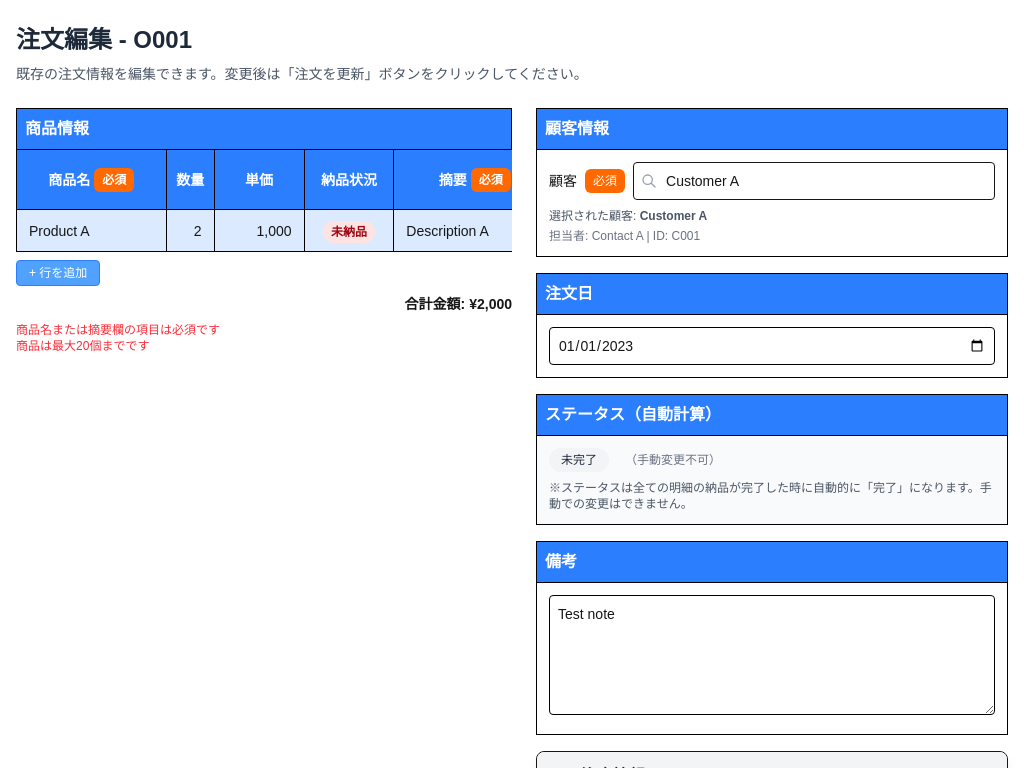
Test: OrderEditPage › 空の商品名と摘要のバリデーションを処理する
The image size is (1024, 768).
Add empty product
Click the button "+ 行を追加".
click(58, 273)  # box [16, 260, 100, 286]
(page scrolled)
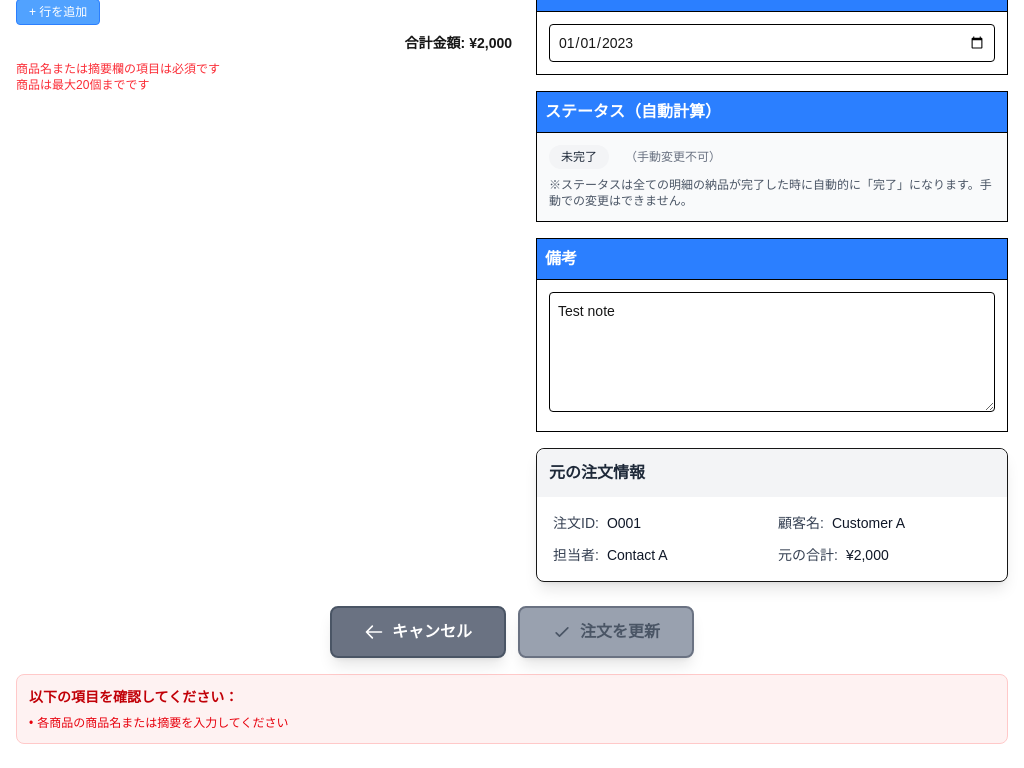
Check: the text "注文を更新" is shown, box [552, 620, 660, 644]
Try to save with empty product
Click the button "注文を更新".
click(606, 632)  # box [518, 606, 694, 658]
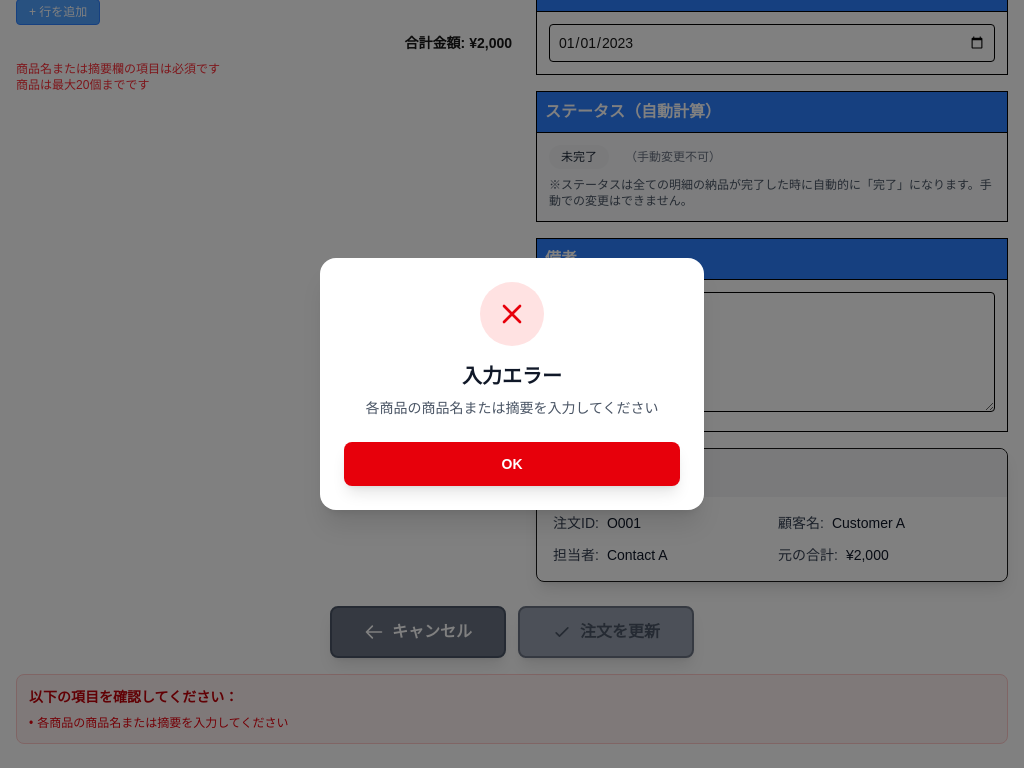
Check: the heading "入力エラー" is shown, box [462, 365, 562, 387]
